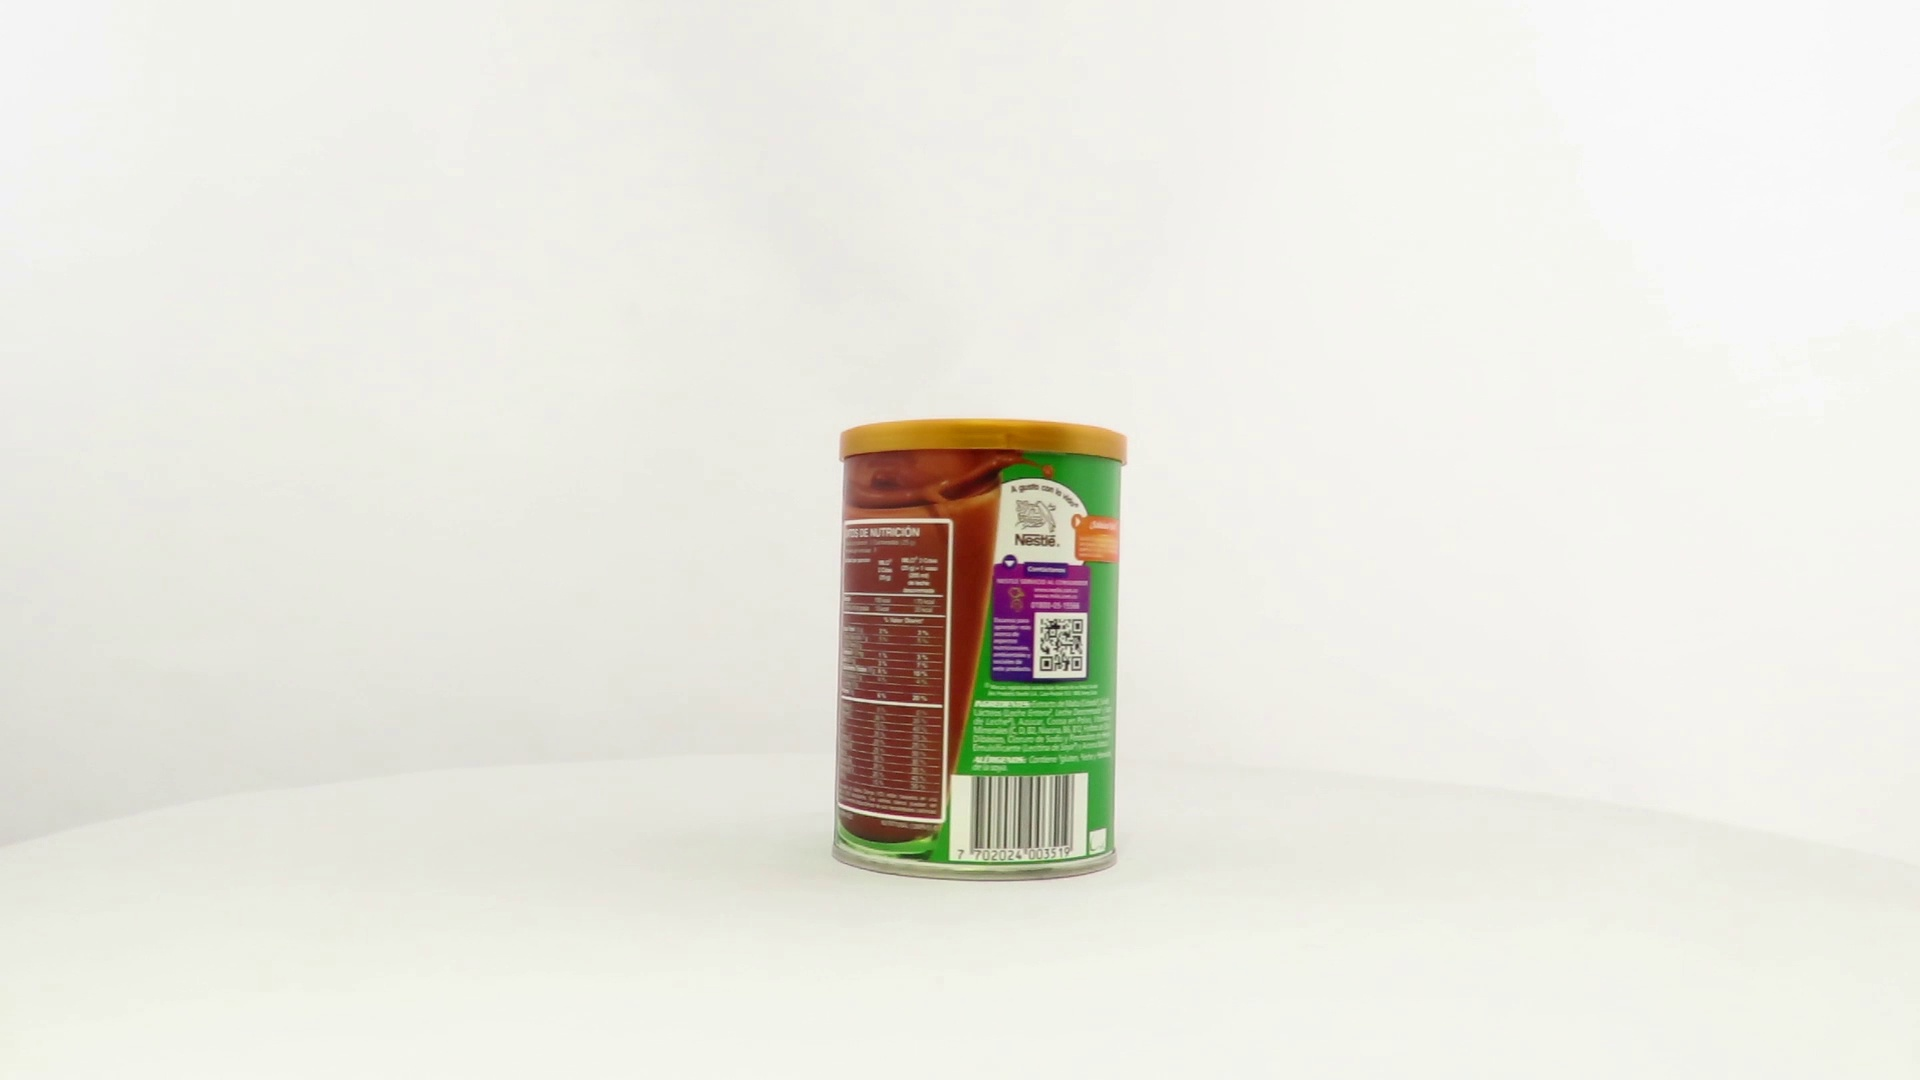COL0170203LAT20000: (825, 413, 1134, 887)
